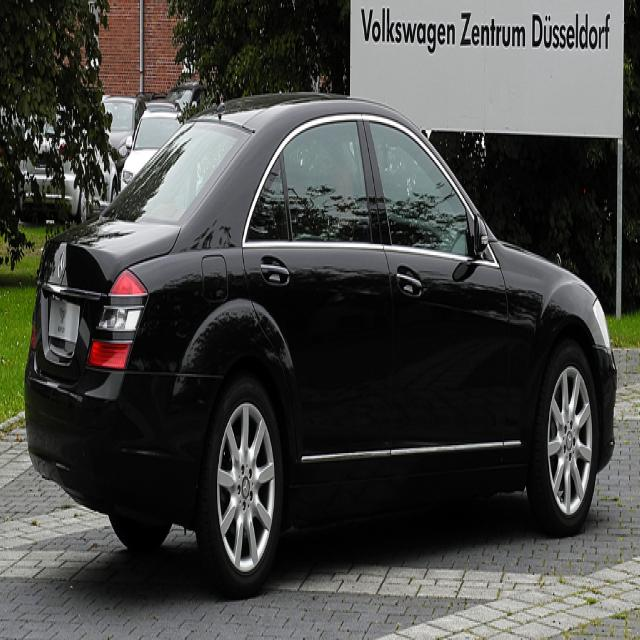car: (19, 90, 619, 596)
